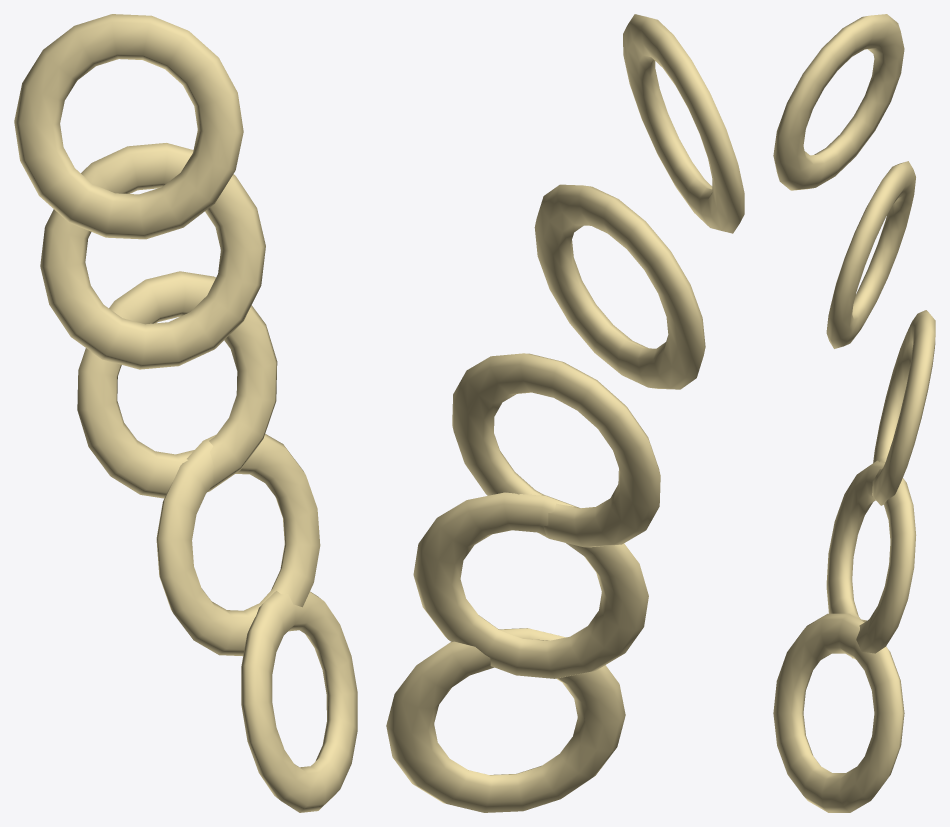
File: wear_chain.glb
3 renders of one model, left to right at view 1: azimuth 30°, elevation 25°; view 2: azimuth 150°, elevation 25°; view 3: azimuth 270°, elevation 25°, orthographic. The views are drawn at different scales.
Parts seen in each view (by area): view 1: chain_link_0, chain_link_1, chain_link_2, chain_link_3, chain_link_4; view 2: chain_link_3, chain_link_2, chain_link_4, chain_link_1, chain_link_0; view 3: chain_link_4, chain_link_0, chain_link_3, chain_link_1, chain_link_2.
Boxes of the visible parts, x1=… form: chain_link_0: x1=14, y1=14, x2=243, y2=239; chain_link_1: x1=40, y1=143, x2=265, y2=369; chain_link_2: x1=77, y1=271, x2=277, y2=498; chain_link_3: x1=156, y1=434, x2=320, y2=656; chain_link_4: x1=241, y1=591, x2=357, y2=812; chain_link_3: x1=413, y1=492, x2=648, y2=678; chain_link_2: x1=452, y1=353, x2=660, y2=547; chain_link_4: x1=386, y1=628, x2=625, y2=812; chain_link_1: x1=534, y1=184, x2=705, y2=389; chain_link_0: x1=623, y1=14, x2=744, y2=233; chain_link_4: x1=773, y1=613, x2=904, y2=812; chain_link_0: x1=773, y1=14, x2=904, y2=190; chain_link_3: x1=826, y1=460, x2=916, y2=658; chain_link_1: x1=826, y1=161, x2=915, y2=348; chain_link_2: x1=872, y1=310, x2=935, y2=505.
Size of the model in its own units: 0.1249 by 0.2913 by 0.0601.
